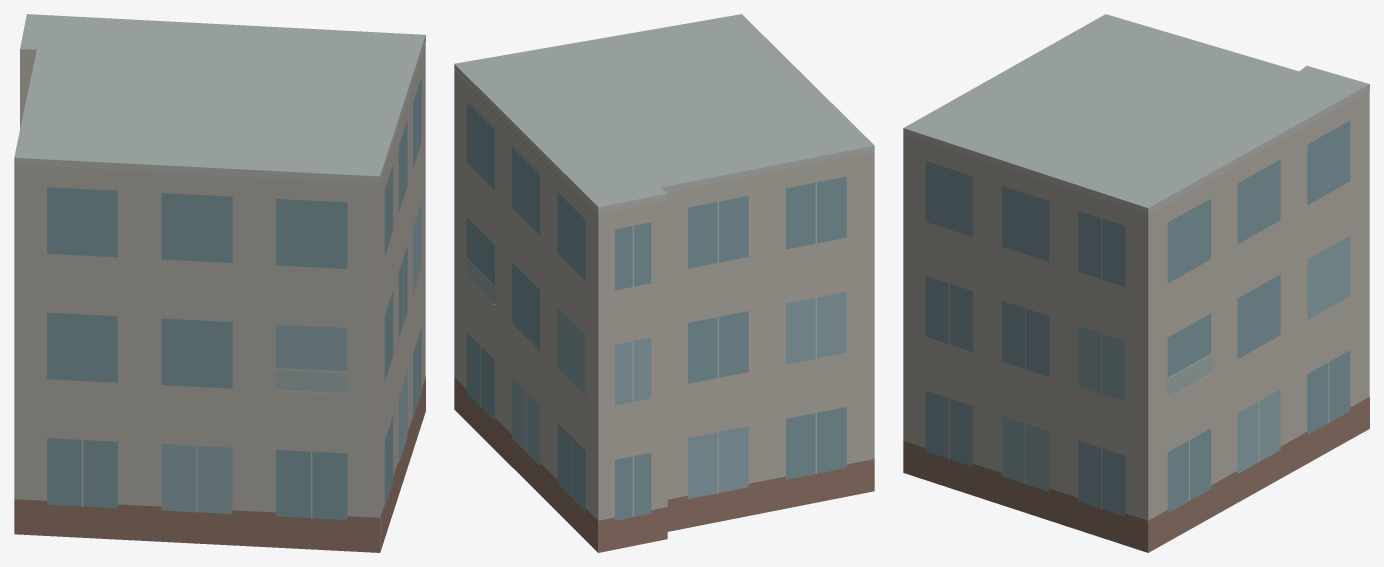
The model's file is survey-upis-32659462.glb.
3 views of the same model, side by side, from view 1: azimuth 30°, elevation 25°; view 2: azimuth 150°, elevation 25°; view 3: azimuth 270°, elevation 25° (orthographic). The views are drawn at different scales.
Visible parts, largest first — view 1: survey-upis-32659462.tmp; view 2: survey-upis-32659462.tmp; view 3: survey-upis-32659462.tmp.
Boxes of the visible parts, left/top/right/bottom form: survey-upis-32659462.tmp: left=14, top=14, right=425, bottom=552; survey-upis-32659462.tmp: left=454, top=14, right=874, bottom=552; survey-upis-32659462.tmp: left=903, top=14, right=1369, bottom=552.
Size of the model in its own units: 15.72 by 13 by 15.95.
